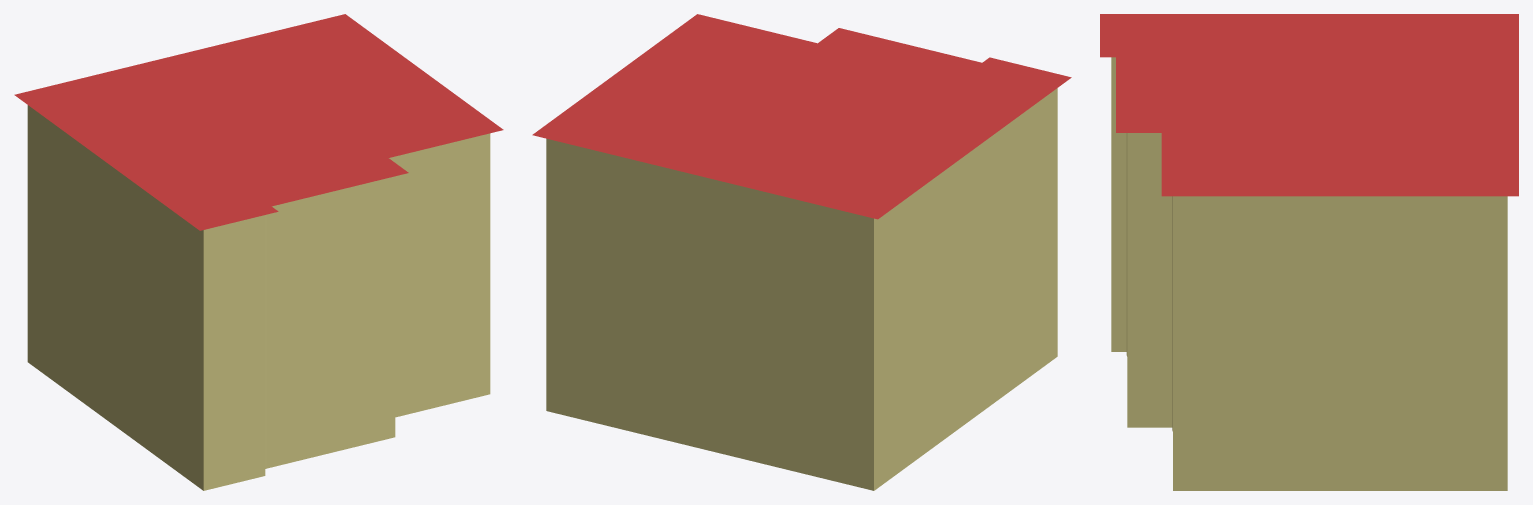
3 renders of one model, left to right at view 1: azimuth 30°, elevation 25°; view 2: azimuth 150°, elevation 25°; view 3: azimuth 270°, elevation 25°, orthographic. The views are drawn at different scales.
Size of the model in its own units: 9.61 by 9.34 by 7.37.
